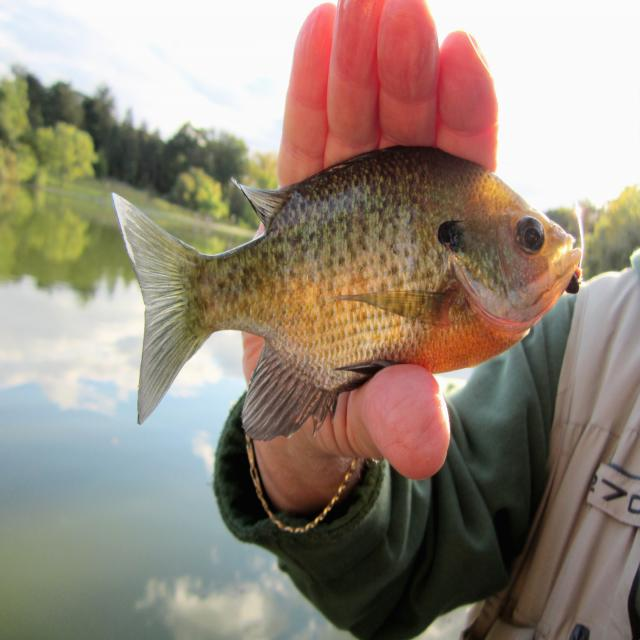Bluegill: (112, 145, 580, 440)
